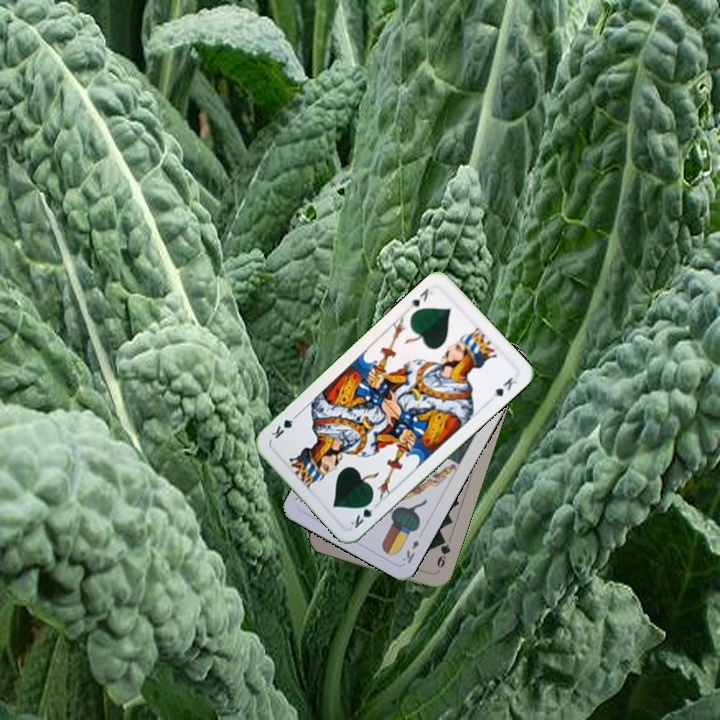EK: (398, 535, 421, 566)
G9: (433, 534, 453, 570)
GK: (346, 496, 381, 531), (406, 284, 436, 318)
